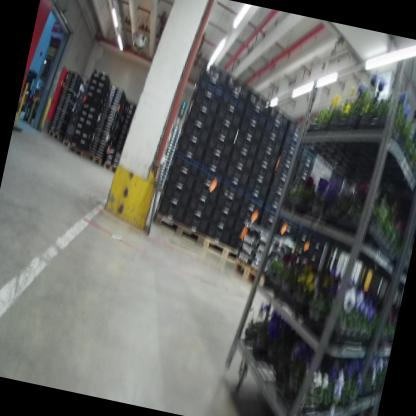pallet: (149, 211, 209, 250), (229, 256, 279, 292), (199, 231, 246, 267), (83, 152, 103, 168), (101, 160, 121, 175), (68, 142, 89, 156), (45, 128, 65, 142), (61, 139, 75, 151)
